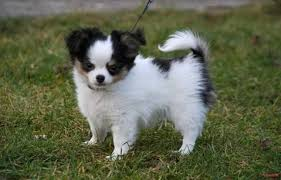Bulldog: (55, 16, 242, 157)
